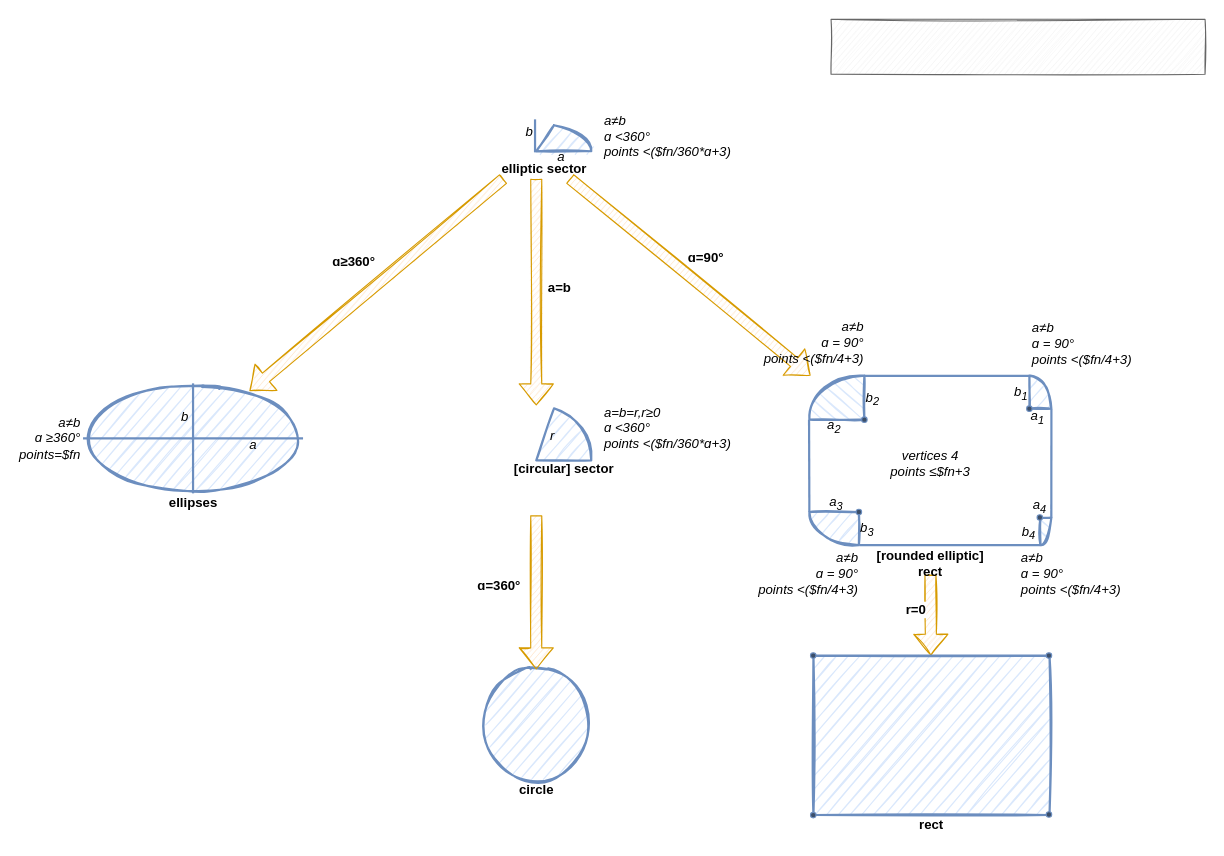
This 1224x856 diagram has some shape labels left out. The shapes that lost their labels are listed below. From the top down, each one's centre as x and y in pixels, then its label:
At point (1017, 46): "2d shape hierarchy".
At point (536, 724): "r≥0 ɑ ≥360° points =$fn".
At point (931, 735): "vertices=4 points=4".
